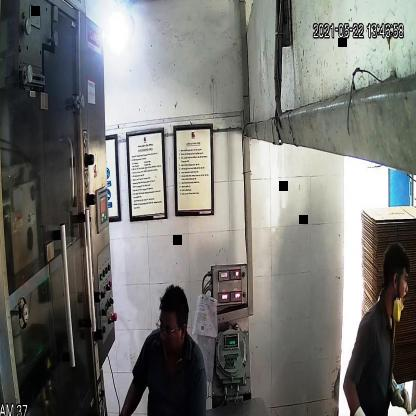goggles: (151, 318, 185, 340)
